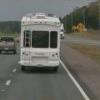Bus: (15, 10, 64, 75)
